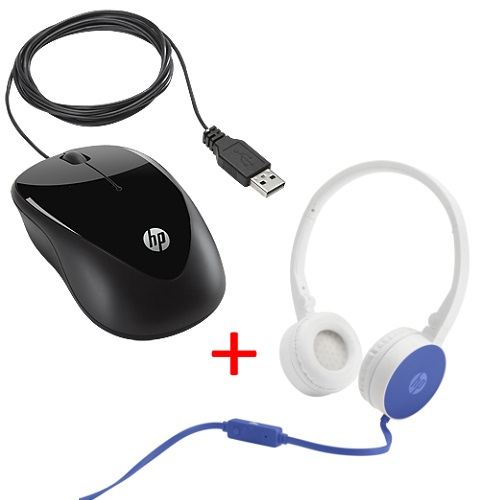hp-mouse-X1000: (2, 25, 277, 317)
